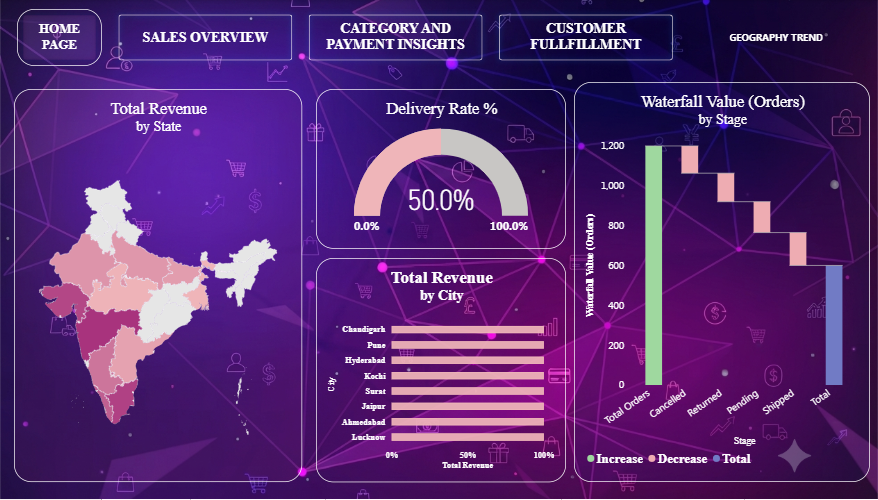

The page's visual inventory and layout, read from the dashboard file:
{"tool":"powerbi","page":{"name":"GEOGRAPHY TREND","canvas":[1280,720],"ordinal":4},"visuals":[{"type":"shapeMap","fields":{"Category":["Sales Data.State"],"Value":["Sales Data.Total Revenue"]},"box":[27.4,190.1,414.7,505.4],"z":0},{"type":"waterfallChart","fields":{"Category":["WaterfallTable_Orders.Stage"],"Y":["WaterfallTable_Orders.Waterfall Value (Orders)"]},"box":[833.8,115.2,426.2,580.3],"z":1000},{"type":"hundredPercentStackedBarChart","fields":{"Category":["Sales Data.City"],"Y":["Sales Data.Total Revenue"]},"box":[480.4,193.2,314.1,502.3],"z":2000}]}

Visuals, with their boxes in screenshot pixels (x1, y1, x2, y2), scaled from the page's 1280x720 canvas onto the 878x500 screenshot:
shapeMap - Sales Data.State x Sales Data.Total Revenue: <box>19,132,303,483</box>
waterfallChart - WaterfallTable_Orders.Stage x WaterfallTable_Orders.Waterfall Value (Orders): <box>572,80,864,483</box>
hundredPercentStackedBarChart - Sales Data.City x Sales Data.Total Revenue: <box>330,134,545,483</box>
